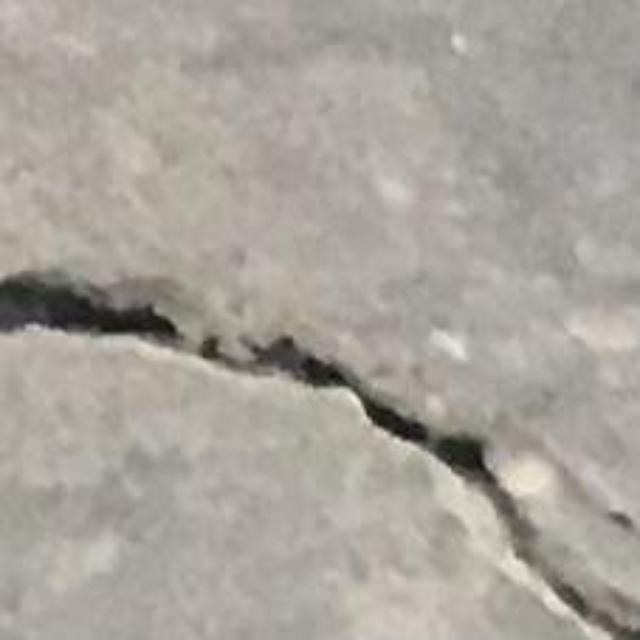crack: (0, 271, 639, 639)
